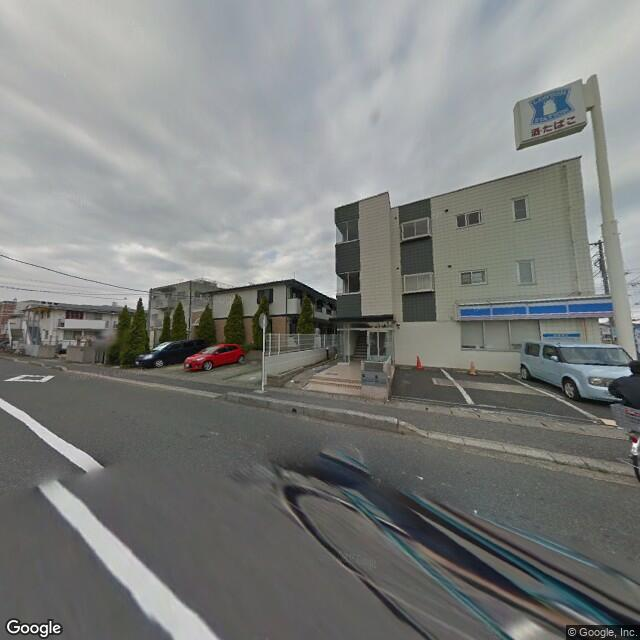lawson: (457, 293, 616, 321), (526, 83, 573, 125)
